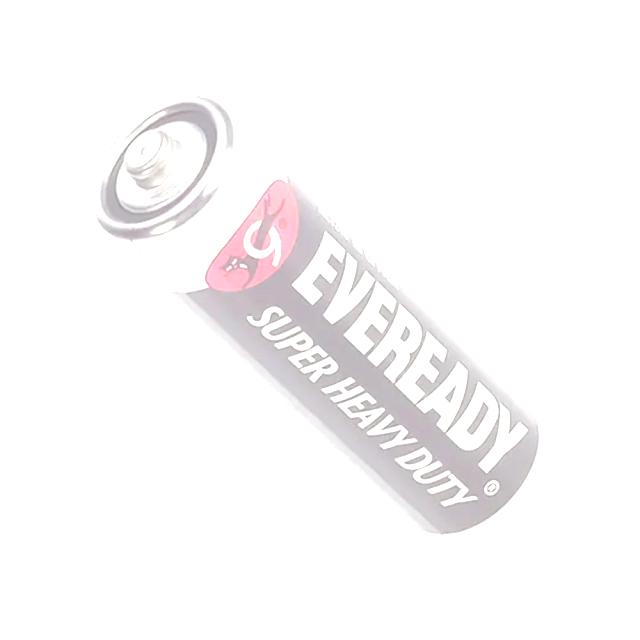AA: (87, 93, 556, 549)
